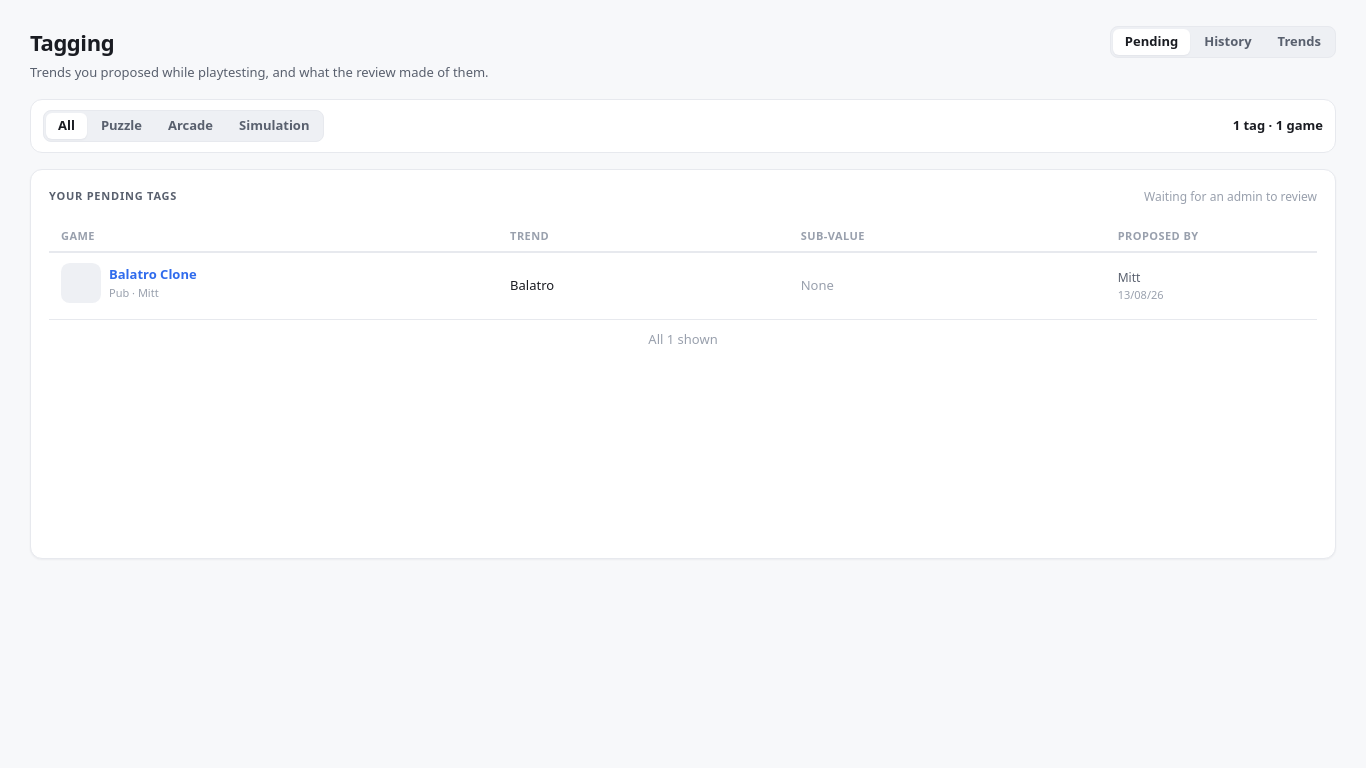
Scenario: Tagging tab as an evaluator › shows what was proposed beside what was confirmed, and the reason
Expected: the text "Balatro" is shown, [510,276,554,294]
Click the button "History". click: (1228, 42)
box: [1192,29,1264,55]
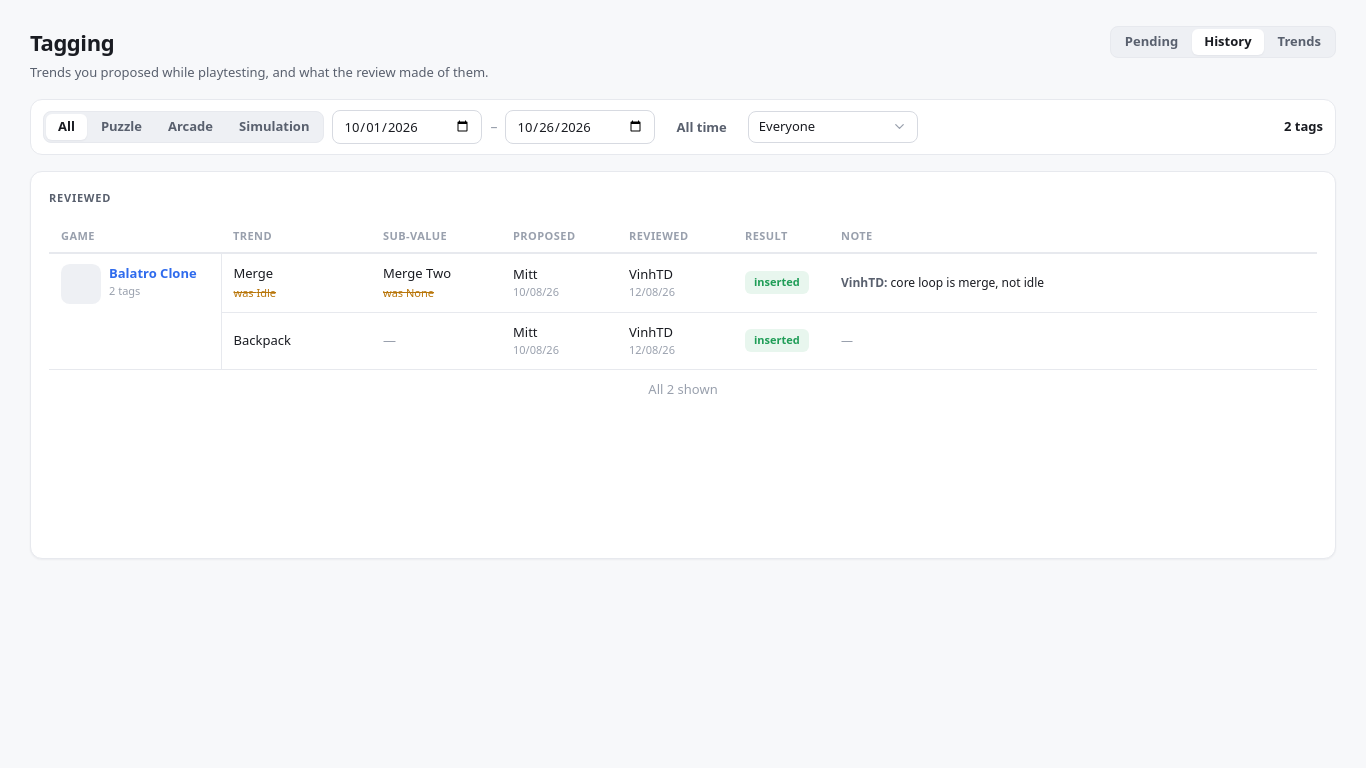
Expected: the text "Merge" is shown, [234,264,273,282]
Expected: the text "was Idle" is shown, [234,285,276,300]
Expected: the text "was None" is shown, [383,285,434,300]
